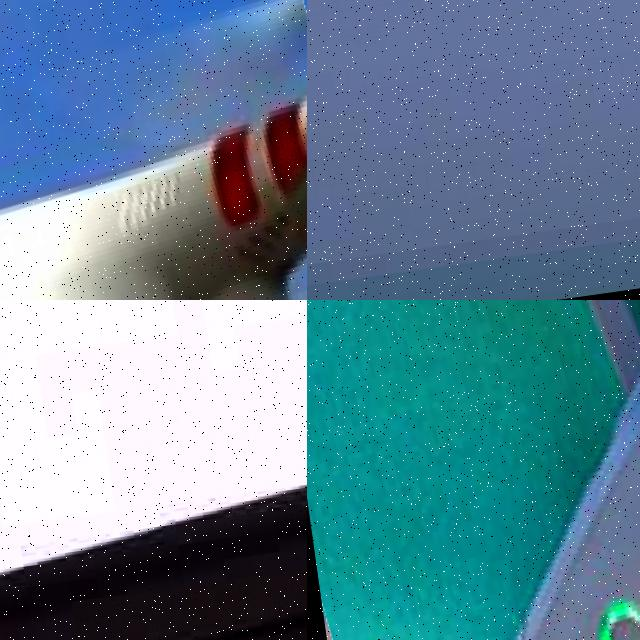drone: (307, 300, 640, 640), (0, 0, 307, 300)
